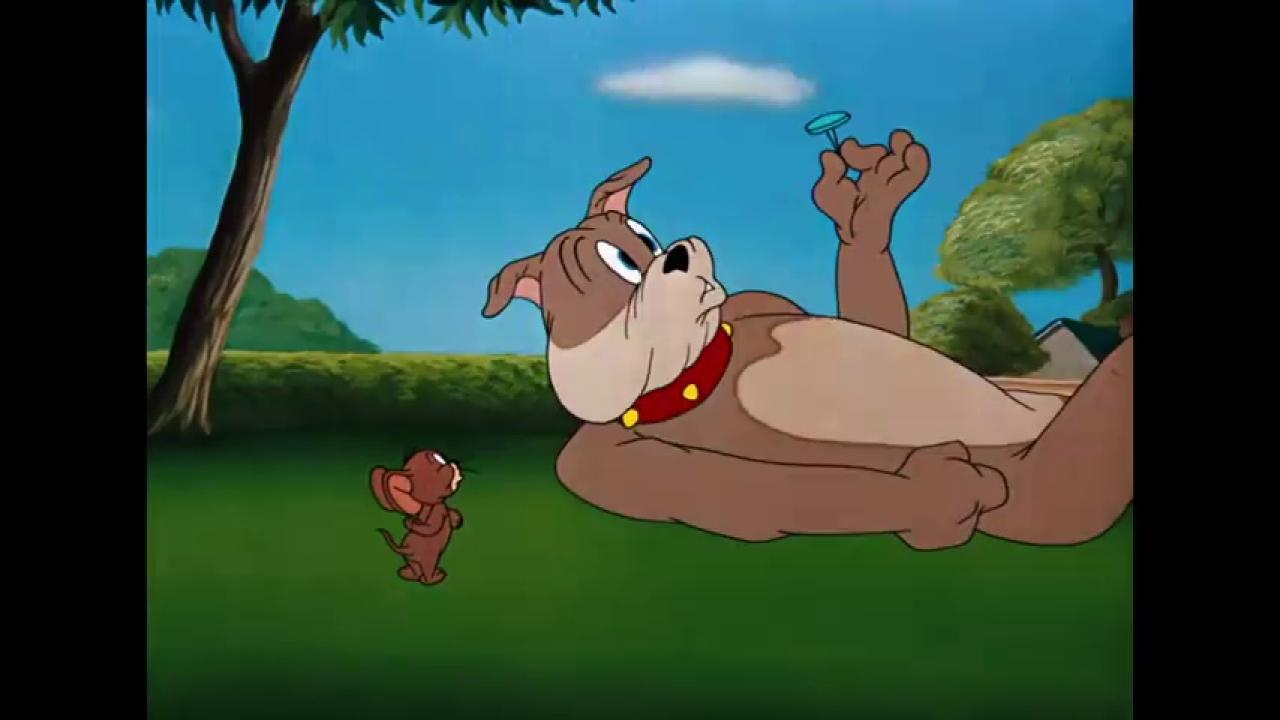Jerry: (368, 445, 483, 587)
